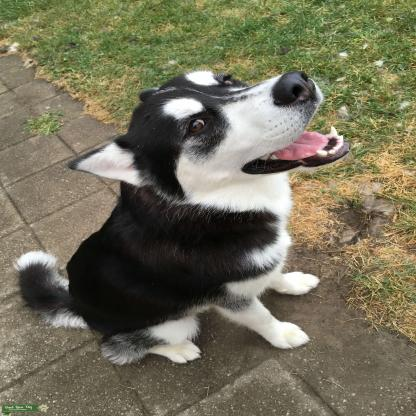husky: (20, 28, 210, 191)
